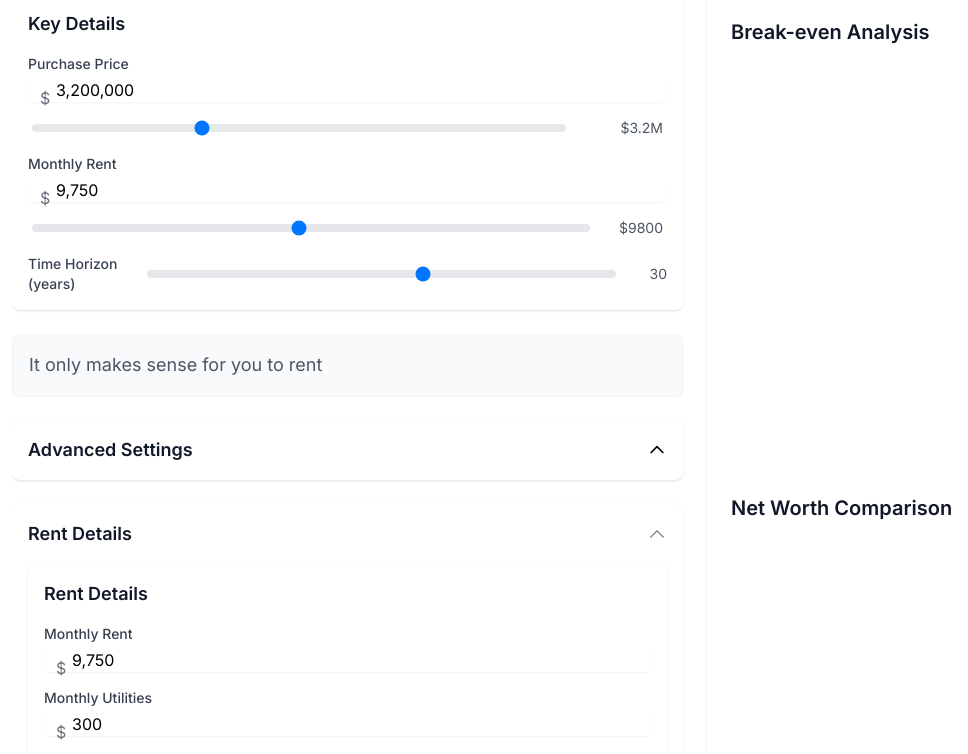
Calculator › updates rent values correctly
Replace the text in the field labelled "Monthly Rent" with "2500": (348, 190) [28, 178, 667, 202]
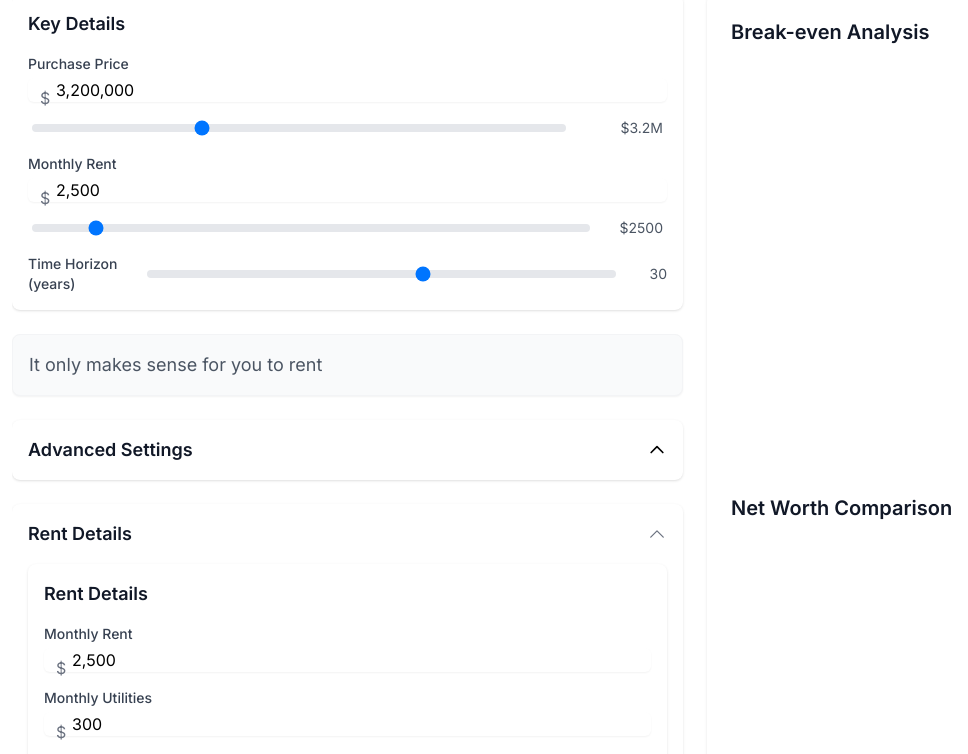
Now the field labelled "Monthly Rent" holds "2,500", box [28, 178, 667, 202]
